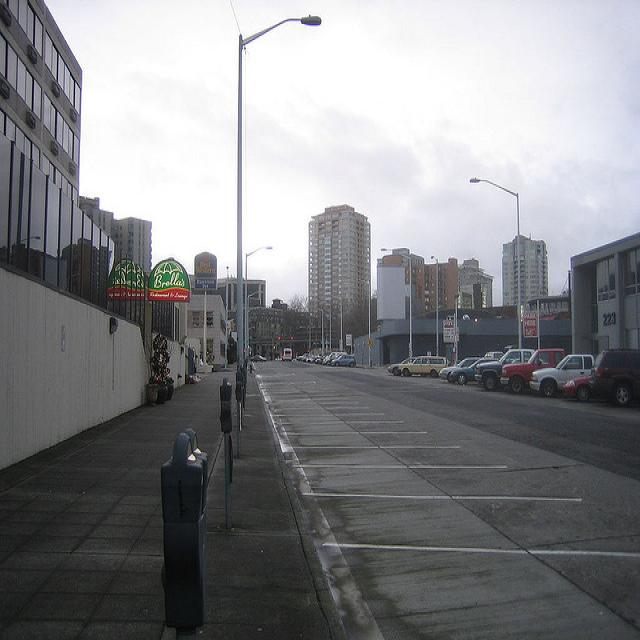Vehicle: (563, 349, 640, 407), (499, 346, 564, 393), (530, 354, 594, 398), (473, 348, 534, 392), (450, 356, 499, 384), (440, 357, 481, 382), (396, 357, 444, 375), (387, 358, 414, 377), (340, 353, 356, 368), (281, 343, 292, 361), (332, 356, 342, 366)
